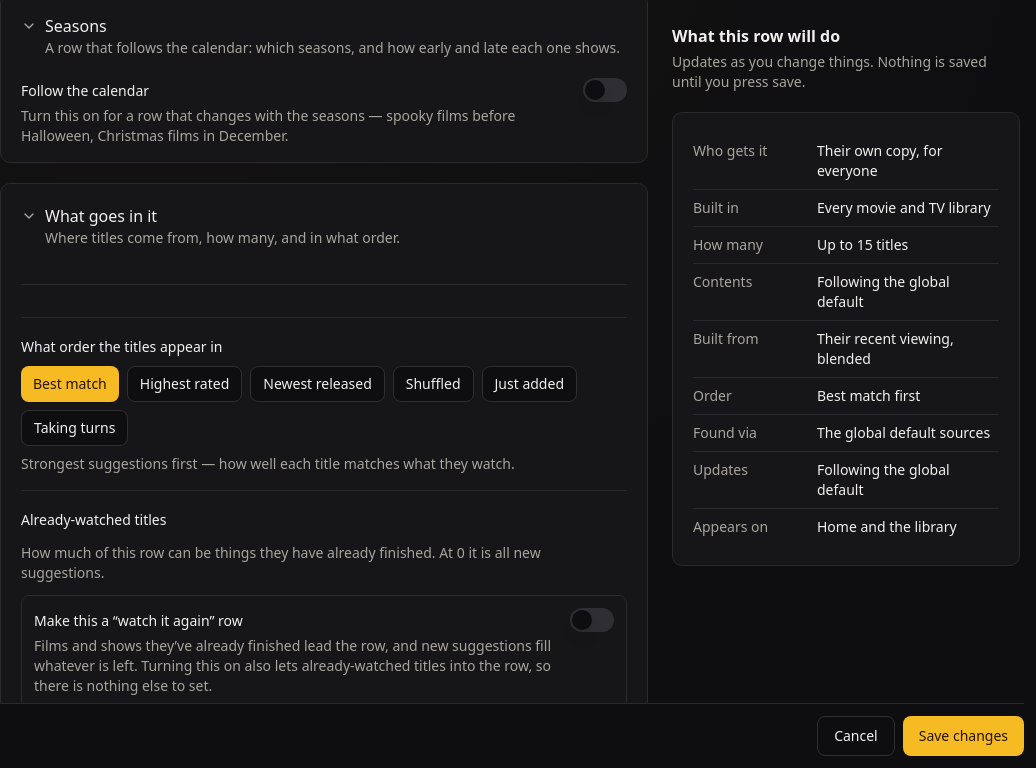
Scenario: RowEditor — order › explains what the chosen order does, and names shuffle's cost
(page scrolled)
expect the text "Strongest suggestions first" is shown: met, box [21,454,515,473]
Click the button "Shuffled".
click(433, 384)  # box [393,366,474,402]
(page scrolled)
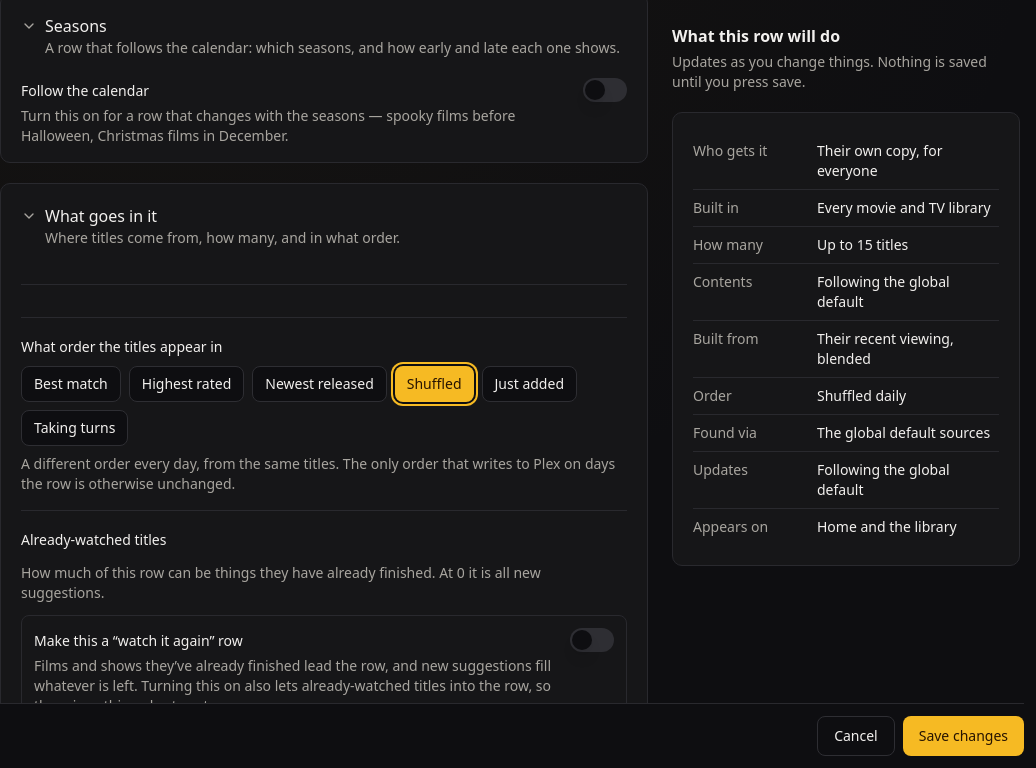
expect the text "writes to Plex" is shown: met, box [21,454,615,493]
